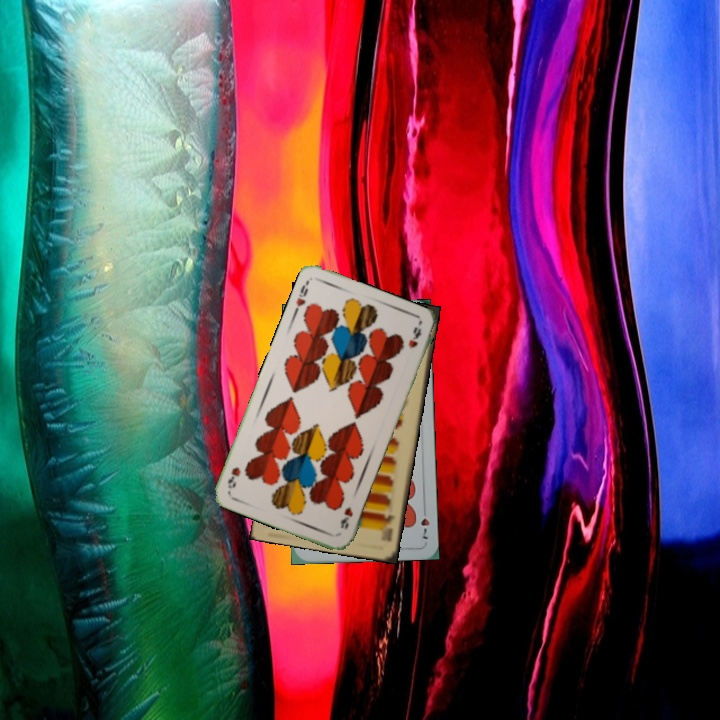E10: (378, 510, 397, 544)
H7: (417, 503, 432, 541)
H9: (290, 281, 311, 316), (336, 503, 355, 531)
